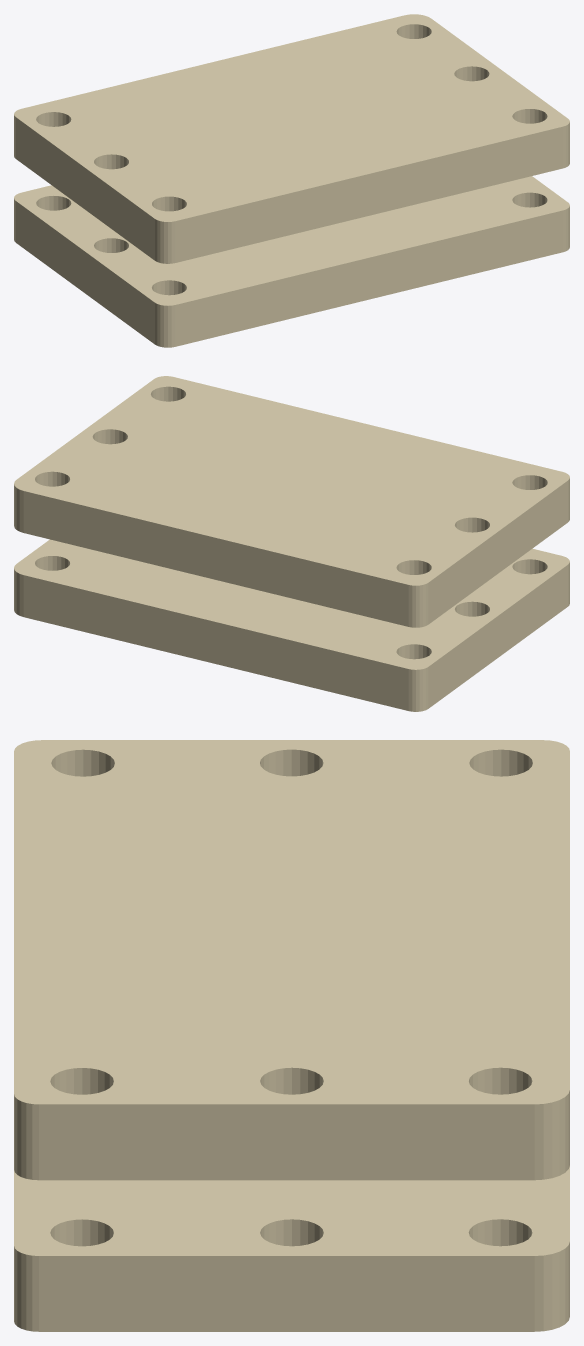
The model's file is Extruderspacer.glb.
The picture shows the model from 3 angles, top to bottom: view 1: azimuth 30°, elevation 25°; view 2: azimuth 150°, elevation 25°; view 3: azimuth 270°, elevation 25°; orthographic projection. The views are drawn at different scales.
Visible parts, largest first — view 1: Extruderspacer; view 2: Extruderspacer; view 3: Extruderspacer.
Boxes of the visible parts, x1,y1,x2,y2 form: Extruderspacer: (14, 14, 569, 347); Extruderspacer: (14, 376, 569, 711); Extruderspacer: (14, 740, 569, 1331).
Bounding box in the file's own units: 0.0618 × 0.018 × 0.0399.
